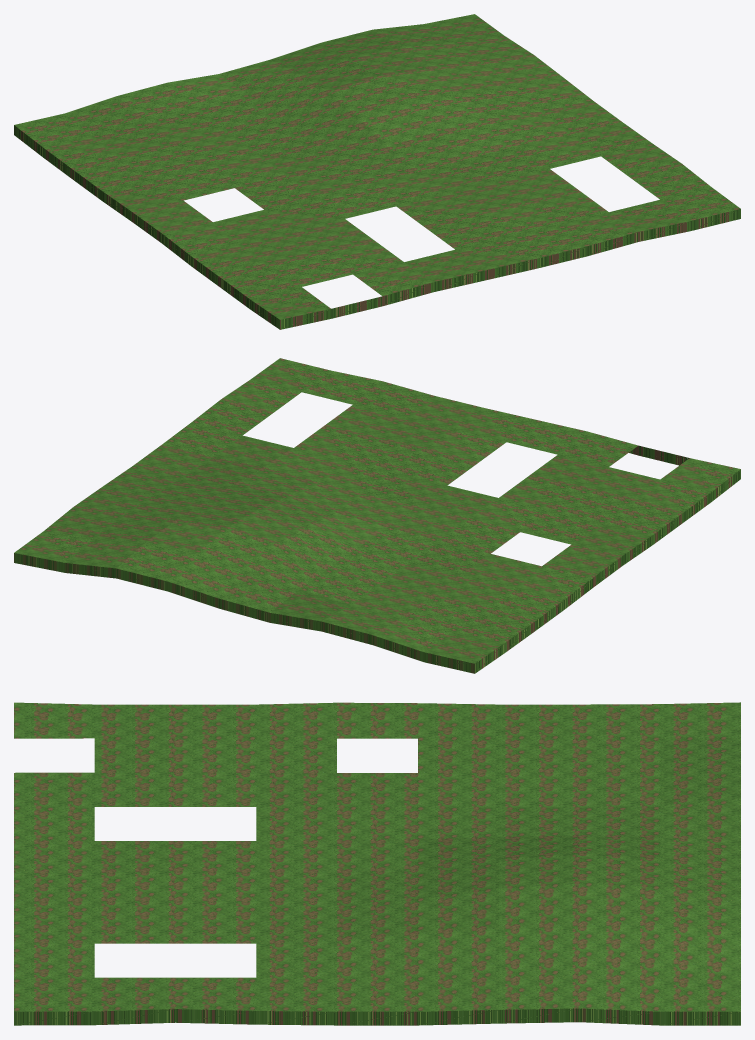
File: rv_terrain_02_lod2.gltf
The picture shows the model from 3 angles, top to bottom: view 1: azimuth 30°, elevation 25°; view 2: azimuth 150°, elevation 25°; view 3: azimuth 270°, elevation 25°; orthographic projection. The views are drawn at different scales.
Visible parts, largest first — view 1: RV_Terrain_02_lod2; view 2: RV_Terrain_02_lod2; view 3: RV_Terrain_02_lod2.
Boxes of the visible parts, box(x1,y1,x2,y2) form: RV_Terrain_02_lod2: box(14, 14, 740, 329); RV_Terrain_02_lod2: box(14, 358, 740, 673); RV_Terrain_02_lod2: box(14, 702, 740, 1025).
Size of the model in its own units: 72 by 4.34 by 72.
2 materials, 1 textured.
